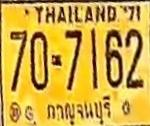0: (30, 31, 50, 91)
1: (90, 28, 99, 89)
2: (126, 29, 145, 88)
6: (105, 28, 123, 88)
7: (65, 30, 83, 91), (10, 30, 28, 90)
KRI: (44, 94, 117, 126)
